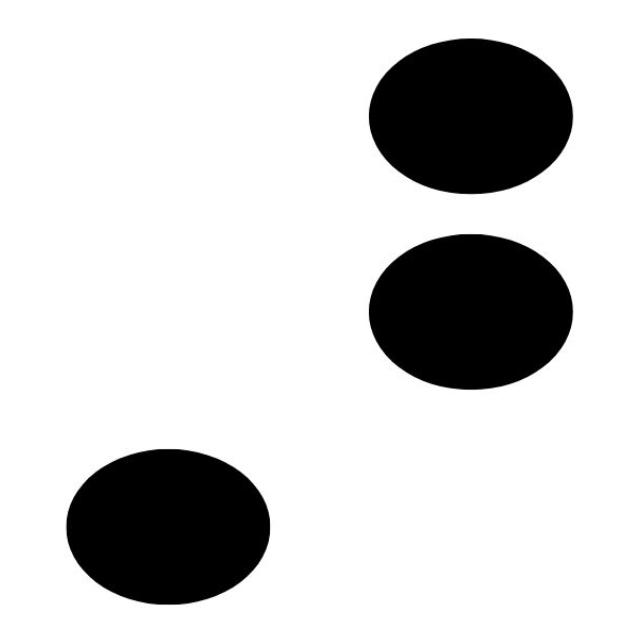ar: (63, 39, 574, 605)
